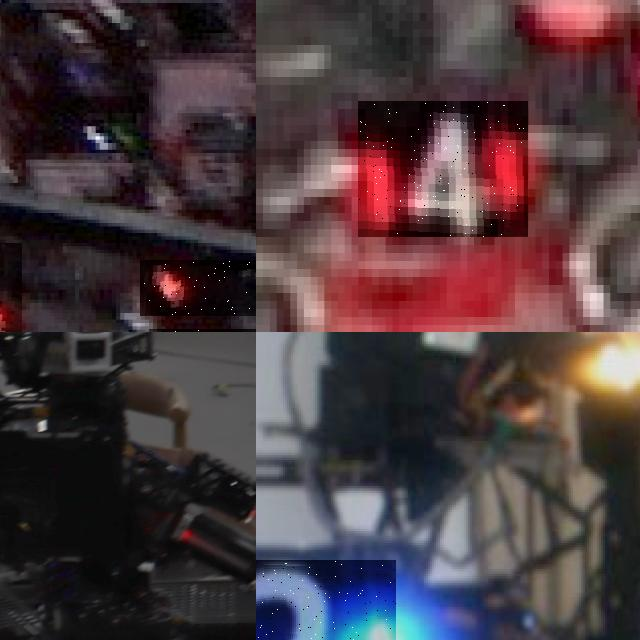B2: (256, 559, 395, 640)
R1: (140, 259, 256, 316), (0, 243, 22, 332)
R4: (358, 101, 528, 237)
